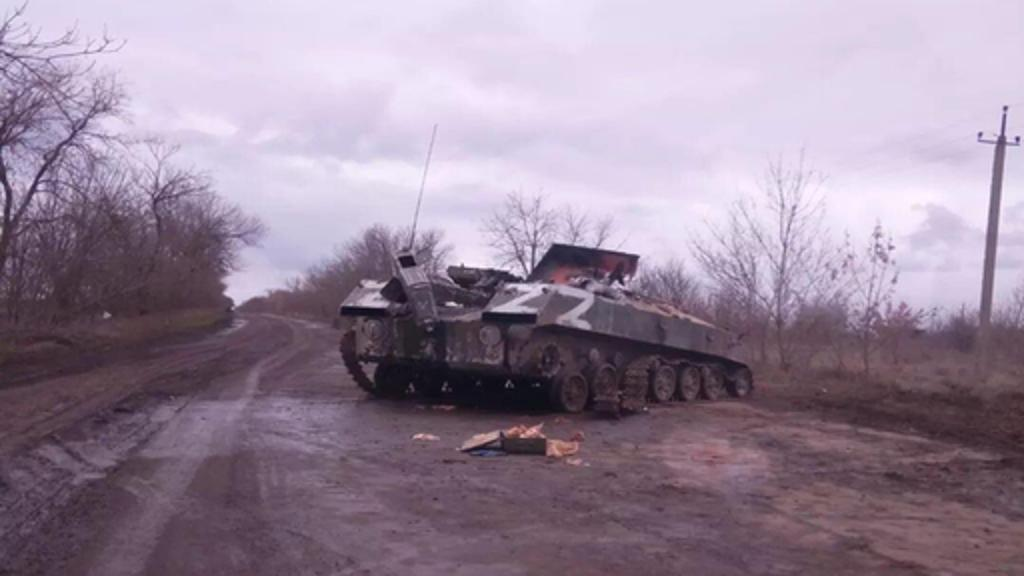APC-IFV: (328, 228, 760, 426)
